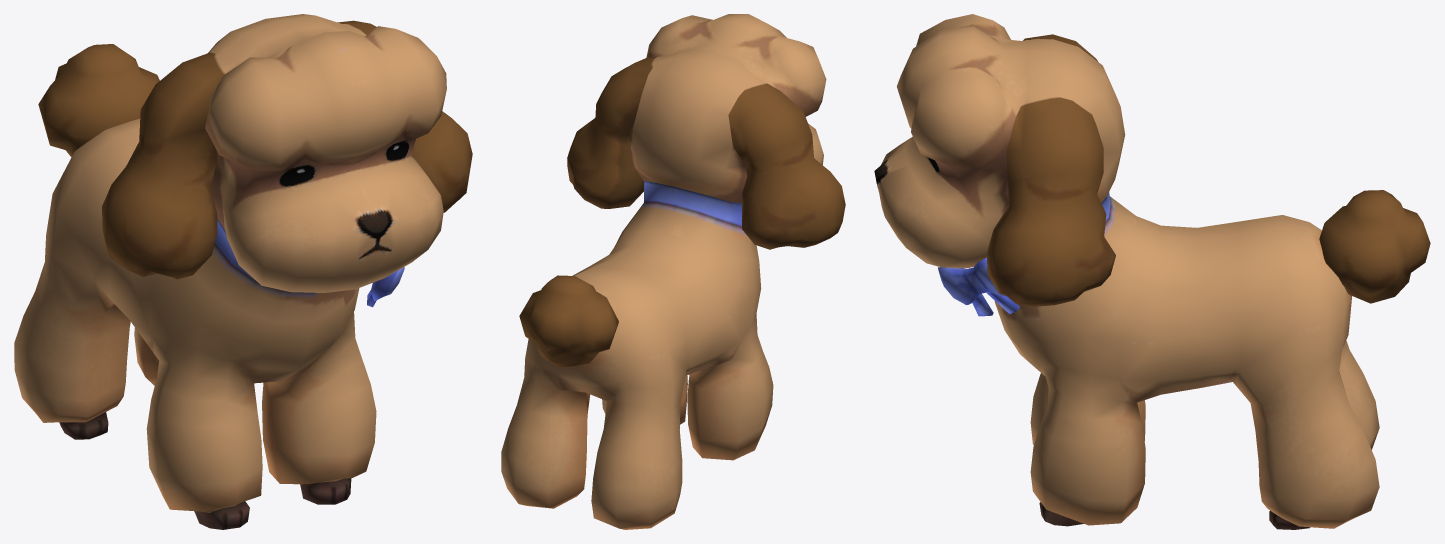
Rendered from JYCgouM.fbx.
3 renders of one model, left to right at view 1: azimuth 30°, elevation 25°; view 2: azimuth 150°, elevation 25°; view 3: azimuth 270°, elevation 25°, orthographic. The views are drawn at different scales.
Parts seen in each view (by area): view 1: JYCgouM_1_0_L_0; view 2: JYCgouM_1_0_L_0; view 3: JYCgouM_1_0_L_0.
Part boxes in pixels (box(x1,y1,x2,y2)): JYCgouM_1_0_L_0: box(14, 14, 472, 529); JYCgouM_1_0_L_0: box(501, 14, 845, 529); JYCgouM_1_0_L_0: box(874, 14, 1430, 529).
Bounding box in the file's own units: 67.74 × 94.19 × 103.
